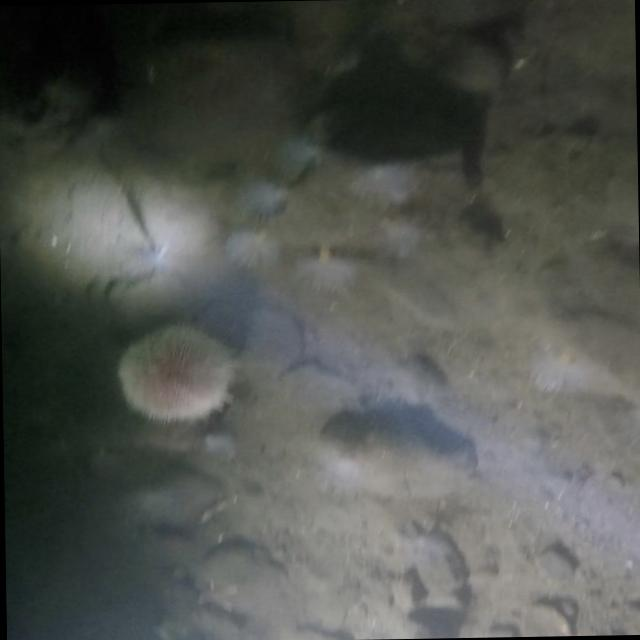Deniz Kestanesi: (114, 323, 238, 426)
